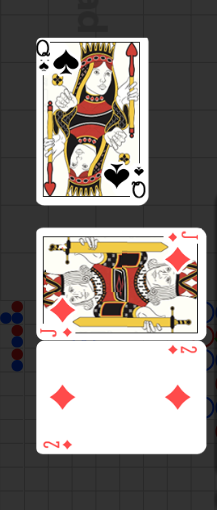2D: (42, 438, 74, 451)
9S: (131, 164, 147, 200), (37, 40, 51, 73)
